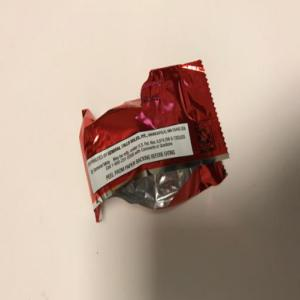Trash: (79, 58, 232, 224)
